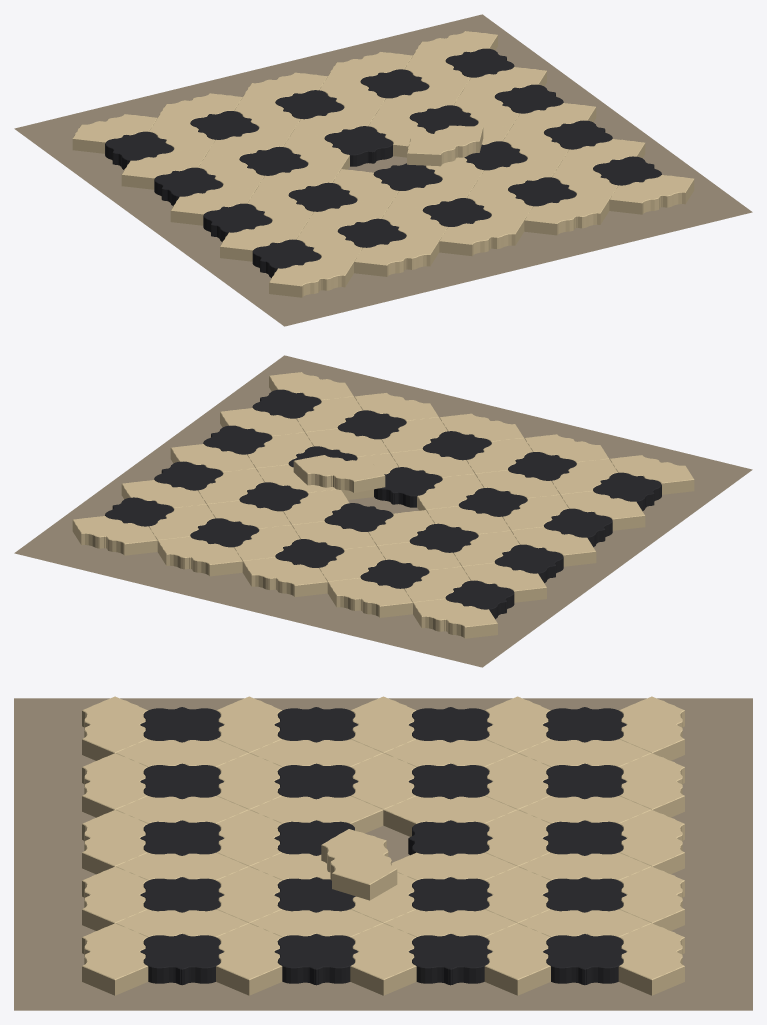
Rendered from terilgan.glb.
The picture shows the model from 3 angles, top to bottom: view 1: azimuth 30°, elevation 25°; view 2: azimuth 150°, elevation 25°; view 3: azimuth 270°, elevation 25°; orthographic projection. The views are drawn at different scales.
Visible parts, largest first — view 1: qum, t.013, t.052, t.039, t, t.026, t.032, t.009, t.006, t.012, t.003, t.033 (+49 smaller); view 2: qum, t.032, t.025, t.060, t.051, t.038, t.012, t.003, t.006, t, t.009, t.030 (+50 smaller); view 3: qum, t.032, t.060, t.052, t.054, t.058, t.056, t.057, t.055, t.053, t.059, t.021 (+50 smaller).
Part boxes in pixels (x1,y1,x2,y2): qum: (14,14,752,326); t.013: (354,237,439,276); t.052: (609,175,694,214); t.039: (524,195,609,235); t: (269,258,353,297); t.026: (439,216,524,255); t.032: (407,125,483,166); t.009: (121,150,206,189); t.006: (170,186,255,225); t.012: (72,114,157,153); t.003: (220,222,304,261); t.033: (324,126,393,166); qum: (14,355,752,667); t.032: (293,455,385,492); t.025: (327,578,412,617); t.060: (72,516,157,555); t.051: (157,536,242,576); t.038: (242,557,327,596); t.012: (413,599,497,638); t.003: (560,491,645,530); t.006: (511,527,596,566); t: (609,455,694,494); t.009: (462,563,546,602); t.030: (374,467,442,507); qum: (14,698,752,1010); t.032: (321,829,397,900); t.060: (618,923,684,995); t.052: (82,923,148,995); t.054: (216,923,282,995); t.058: (484,923,550,995); t.056: (350,923,416,995); t.057: (408,934,492,985); t.055: (274,934,358,985); t.053: (140,934,223,985); t.059: (543,934,626,985); t.021: (383,796,516,836).
Size of the model in its own units: 1.66 by 0.082 by 1.66.
